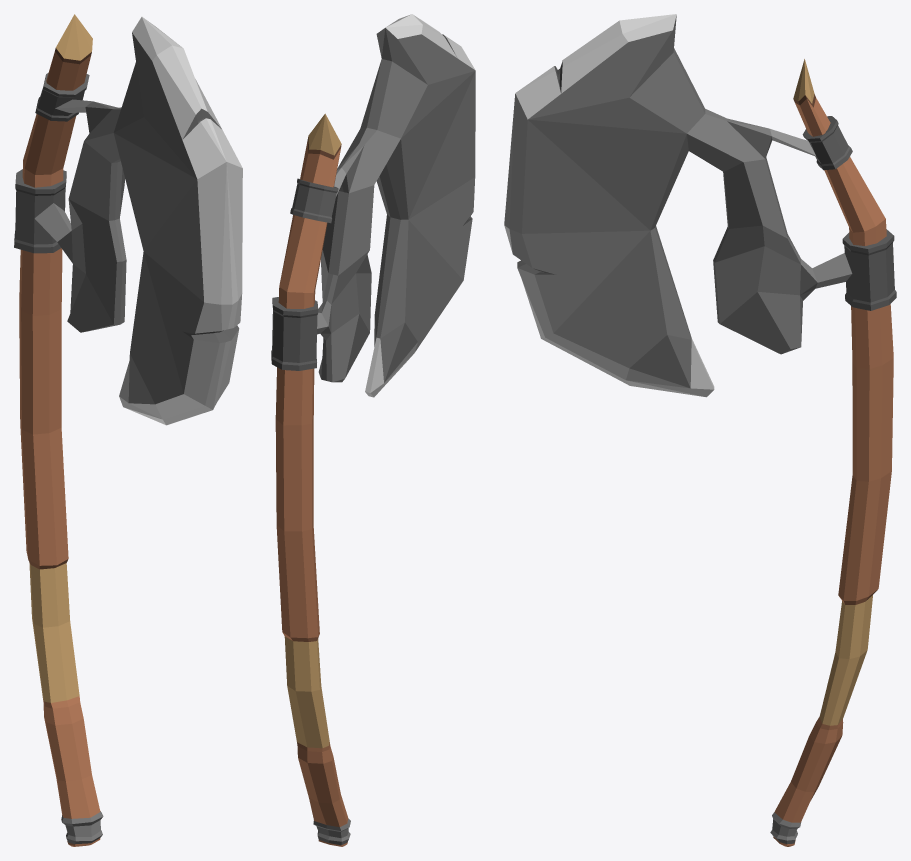
The model's file is OrcAxe.fbx.
3 renders of one model, left to right at view 1: azimuth 30°, elevation 25°; view 2: azimuth 150°, elevation 25°; view 3: azimuth 270°, elevation 25°, orthographic. The views are drawn at different scales.
Visible parts, largest first — view 1: OrcAxe; view 2: OrcAxe; view 3: OrcAxe.
Boxes of the visible parts, x1,y1,x2,y2 form: OrcAxe: [14, 14, 242, 846]; OrcAxe: [271, 14, 475, 846]; OrcAxe: [504, 14, 896, 846].
Bounding box in the file's own units: 12.35 × 183 × 78.75.
1 material, 1 textured.
